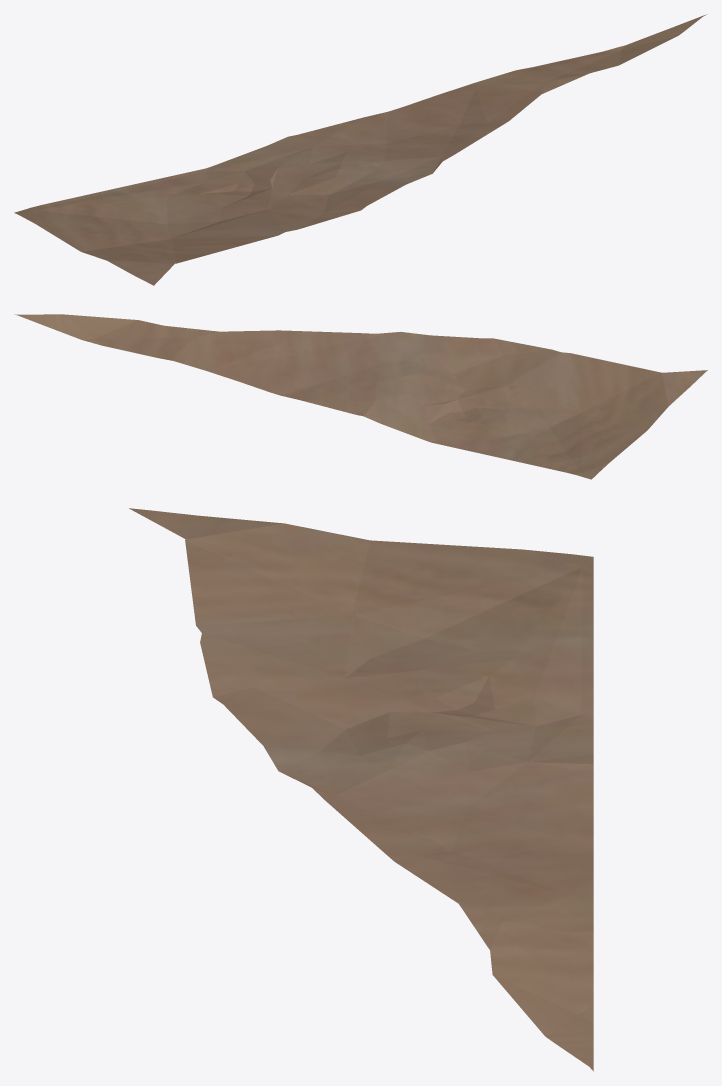
The picture shows the model from 3 angles, top to bottom: view 1: azimuth 30°, elevation 25°; view 2: azimuth 150°, elevation 25°; view 3: azimuth 270°, elevation 25°; orthographic projection. The views are drawn at different scales.
Size of the model in its own units: 2.74 by 0.1198 by 0.9564.
Materials: 1 (1 with a texture image).
